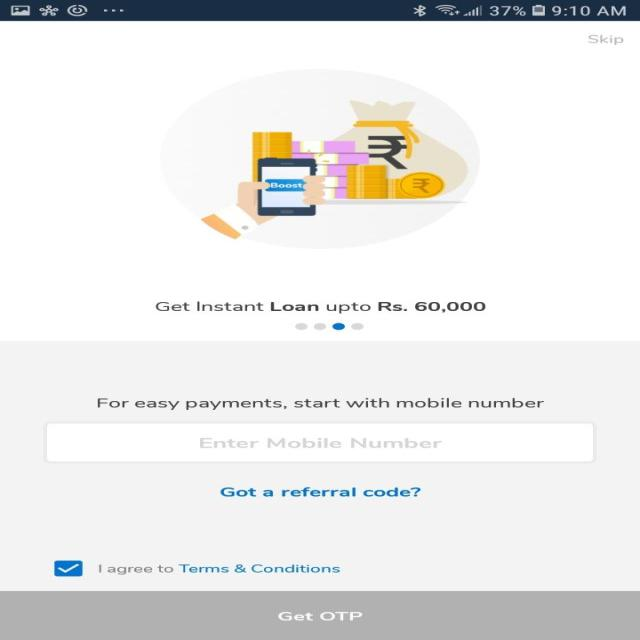EditText: (42, 422, 596, 464)
Image: (159, 68, 480, 250)
Text: (97, 398, 543, 410), (155, 301, 486, 314), (200, 437, 442, 448), (98, 564, 340, 574), (220, 486, 420, 496), (588, 34, 624, 45)
TextButton: (0, 590, 639, 640)
